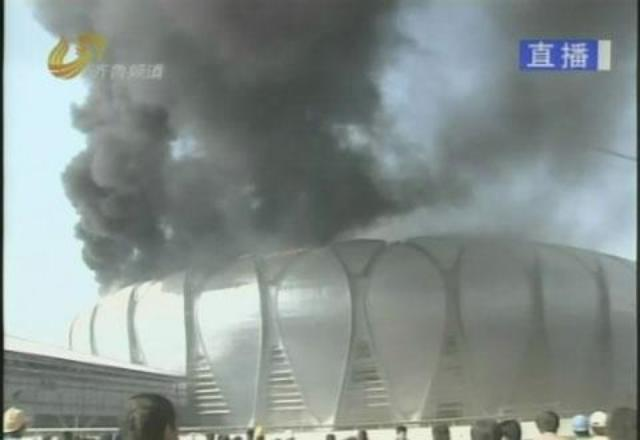smoke: (34, 0, 416, 102), (70, 107, 246, 296), (436, 69, 608, 239), (250, 106, 402, 242)
